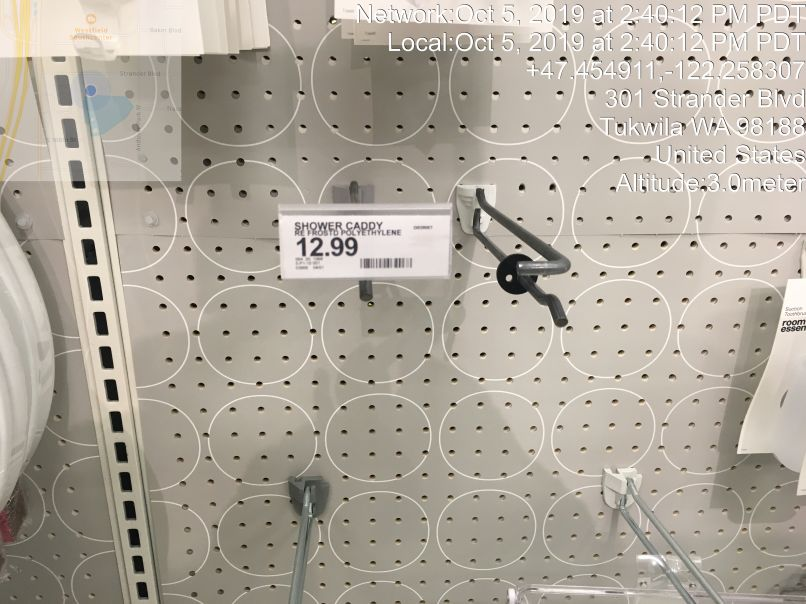Label: (272, 197, 460, 284)
Location: (600, 83, 806, 170)
Time: (350, 2, 806, 56)
Void: (285, 287, 475, 600)
